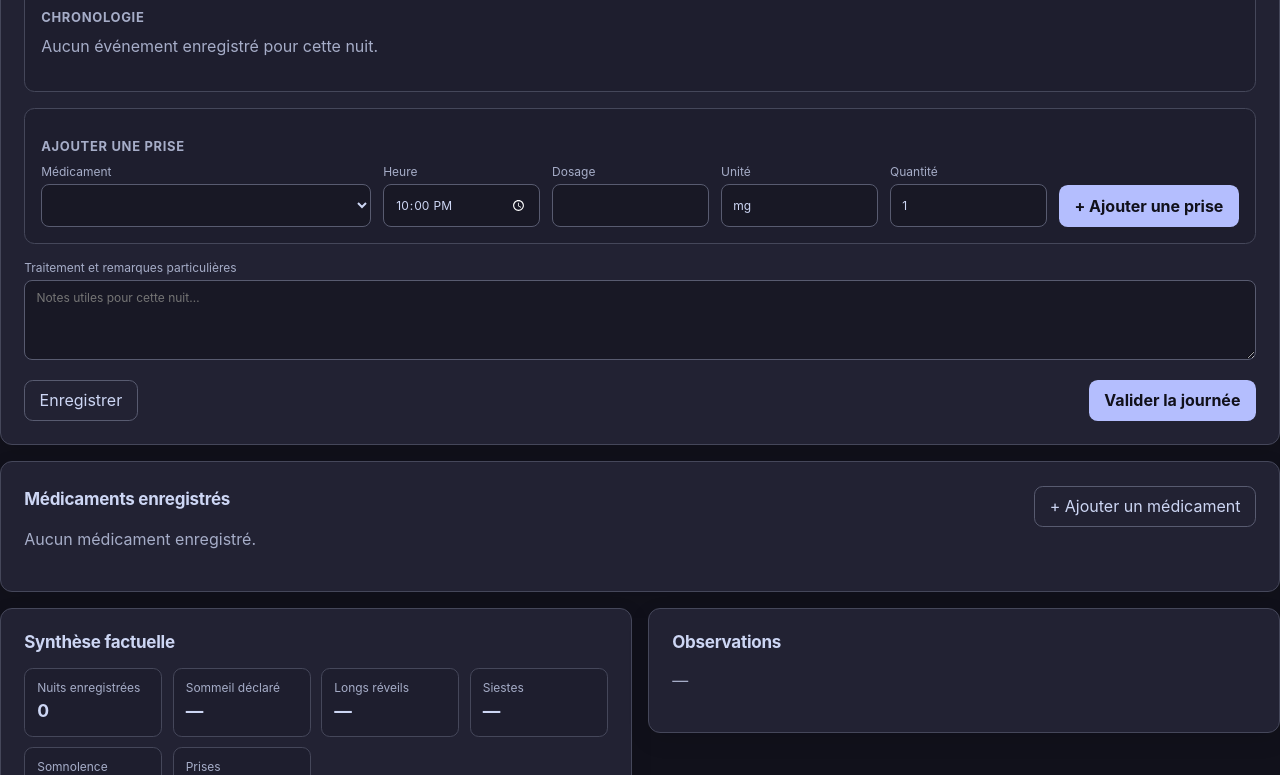
it: SleepDiaryWorkspace › presents validation as a local completion state without transport wording
(page scrolled)
Click the button with test id "sleep-validate-day".
click(1172, 400)  # box [1089,380,1256,421]
(page scrolled)
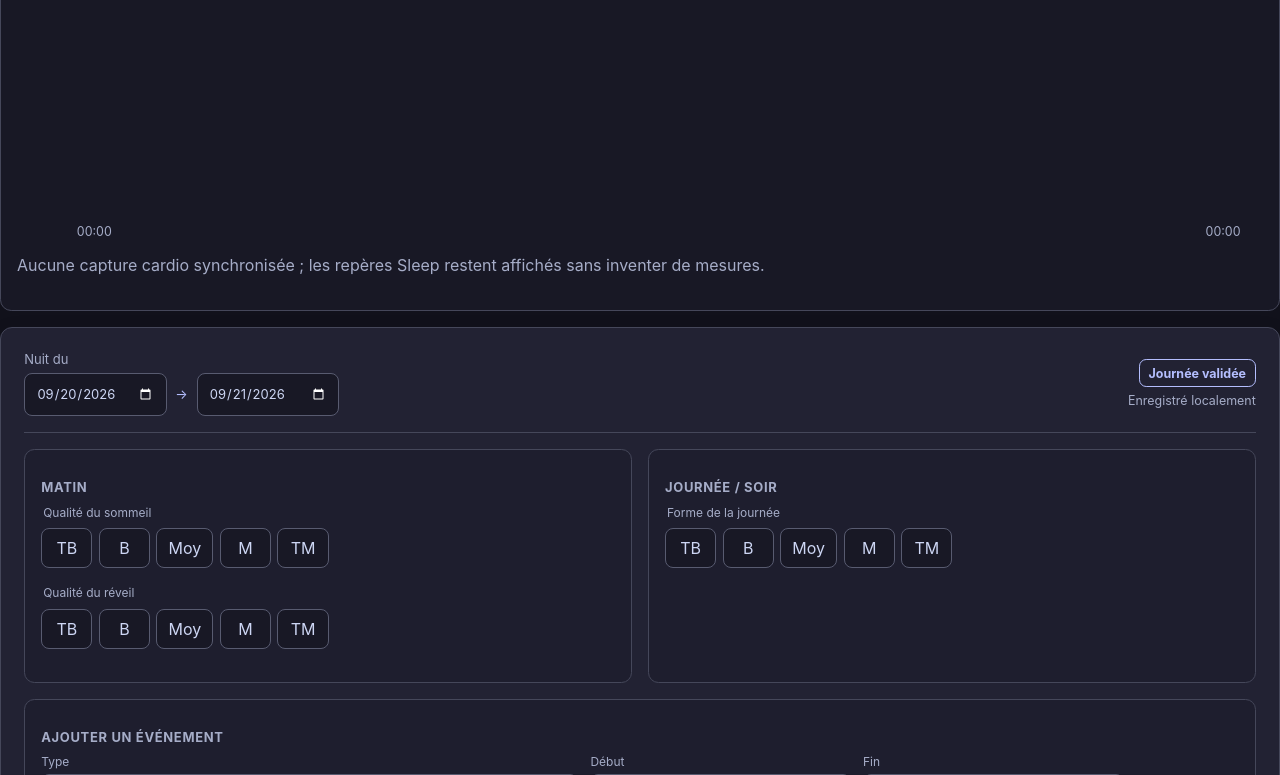
Result: the text with test id "sleep-publication-status" reads "Journée validée" at [1148,366,1246,381]
Result: the message with test id "sleep-save-state" reads "Enregistré localement" at [1128,393,1256,408]
